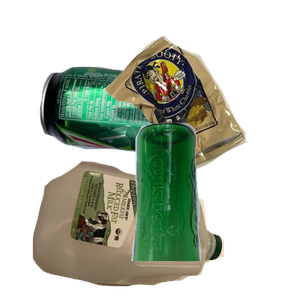glass: (129, 120, 300, 300)
metal: (37, 64, 245, 214)
plastic: (30, 159, 247, 300)
trash: (101, 33, 300, 206)
